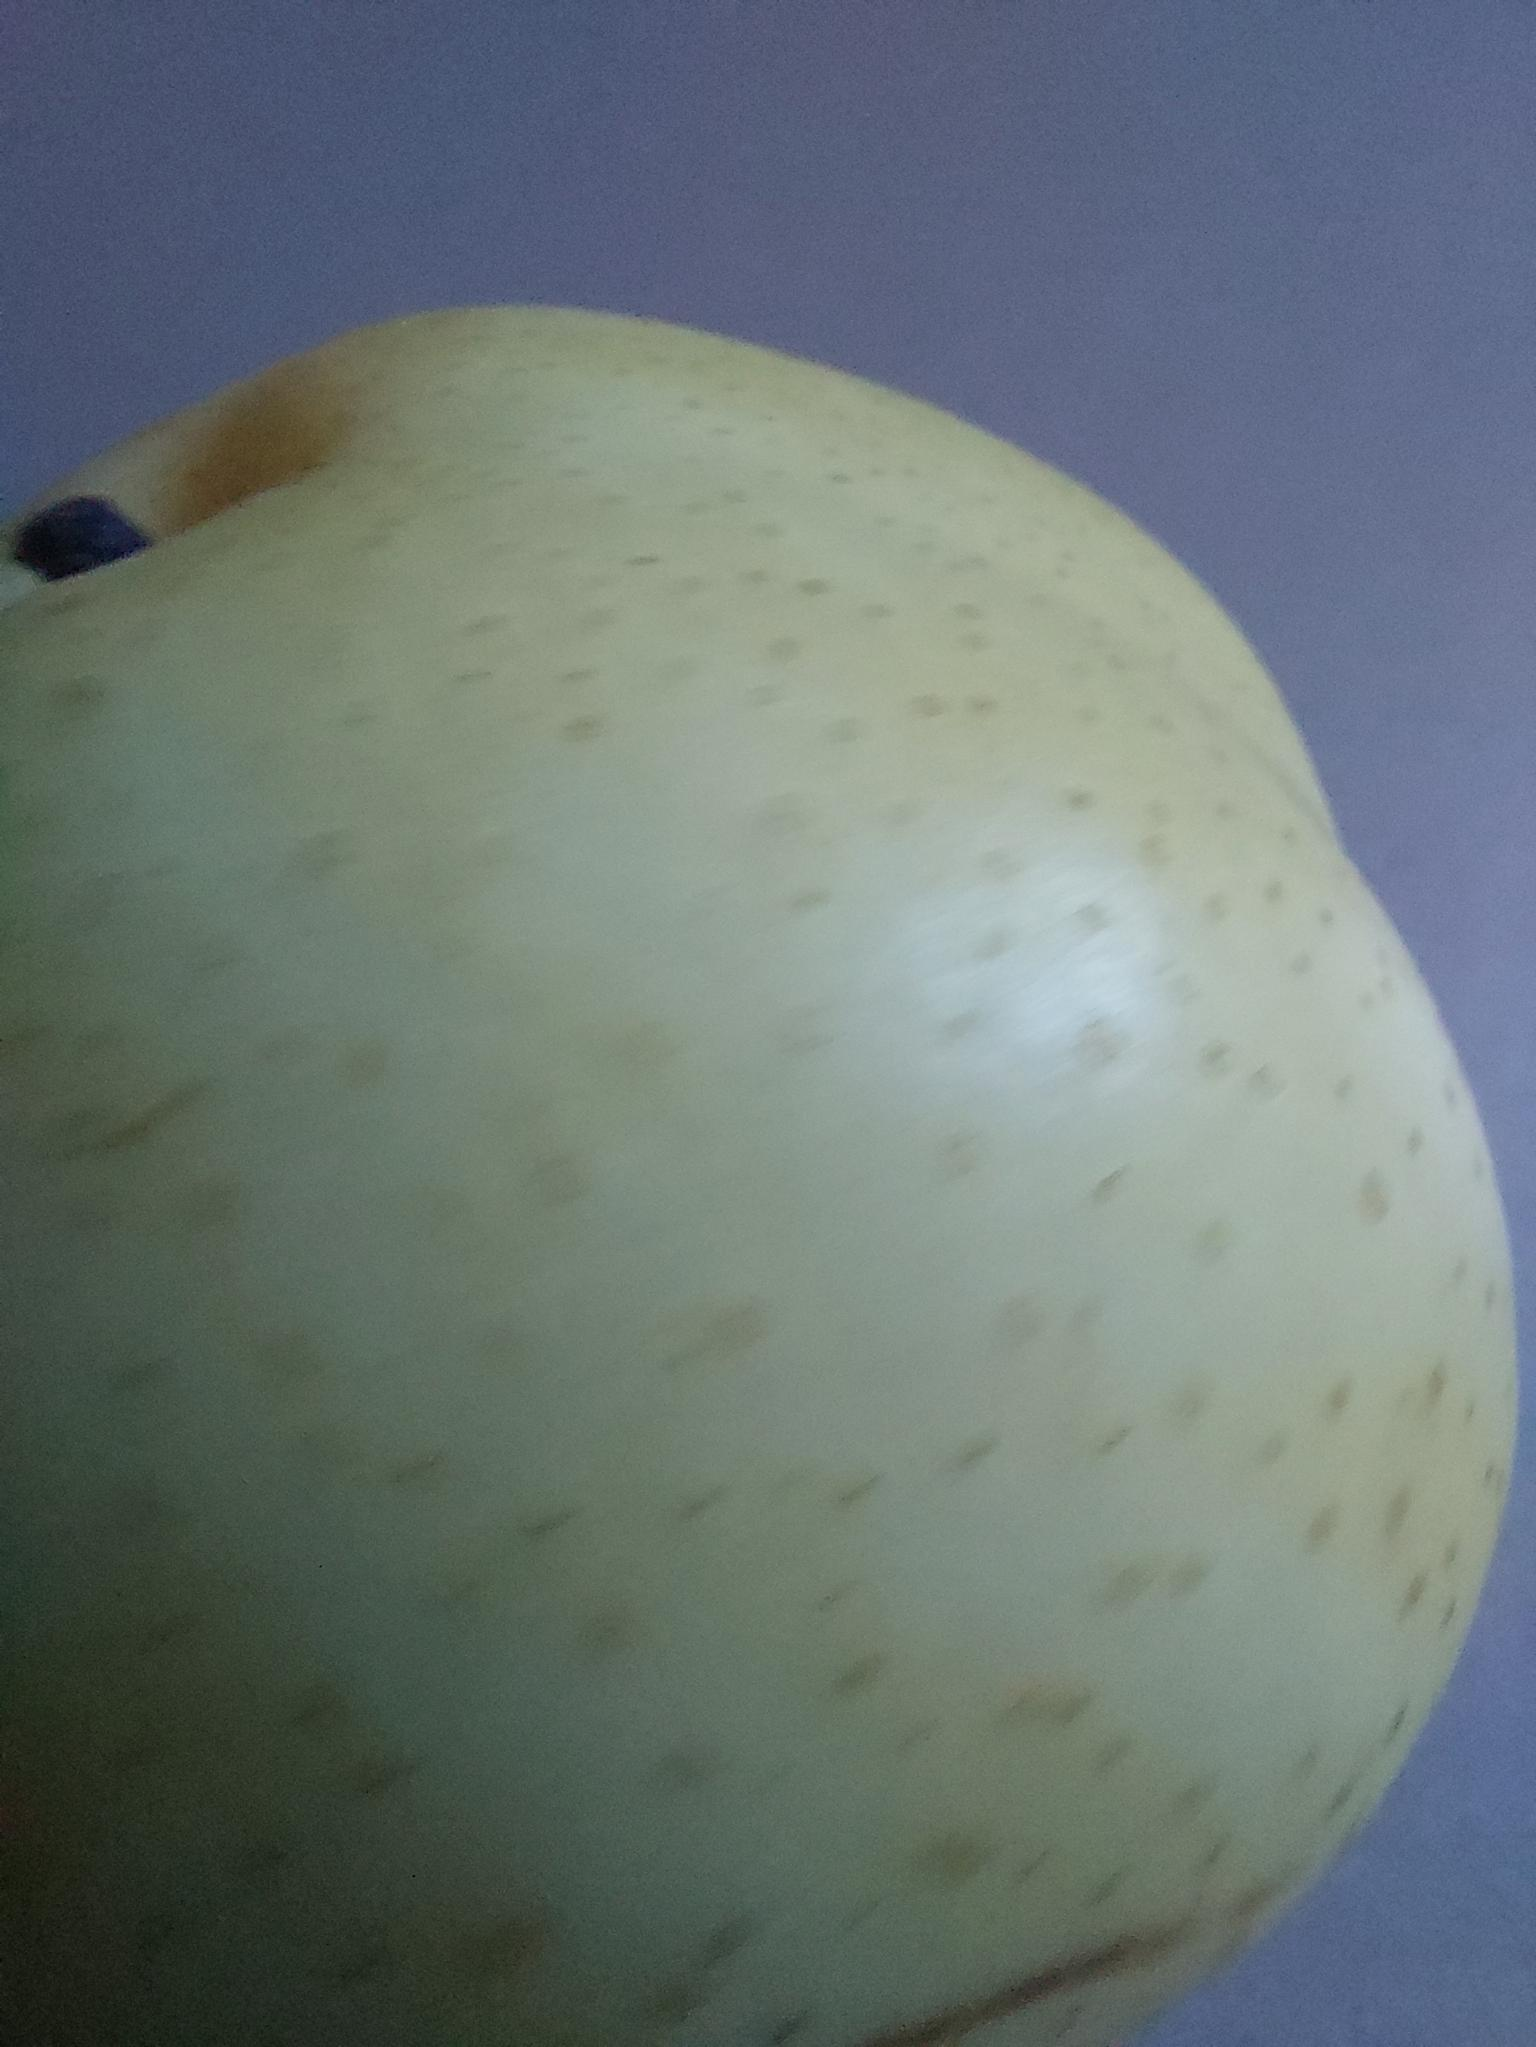Good Pear: (0, 224, 1533, 2047)
